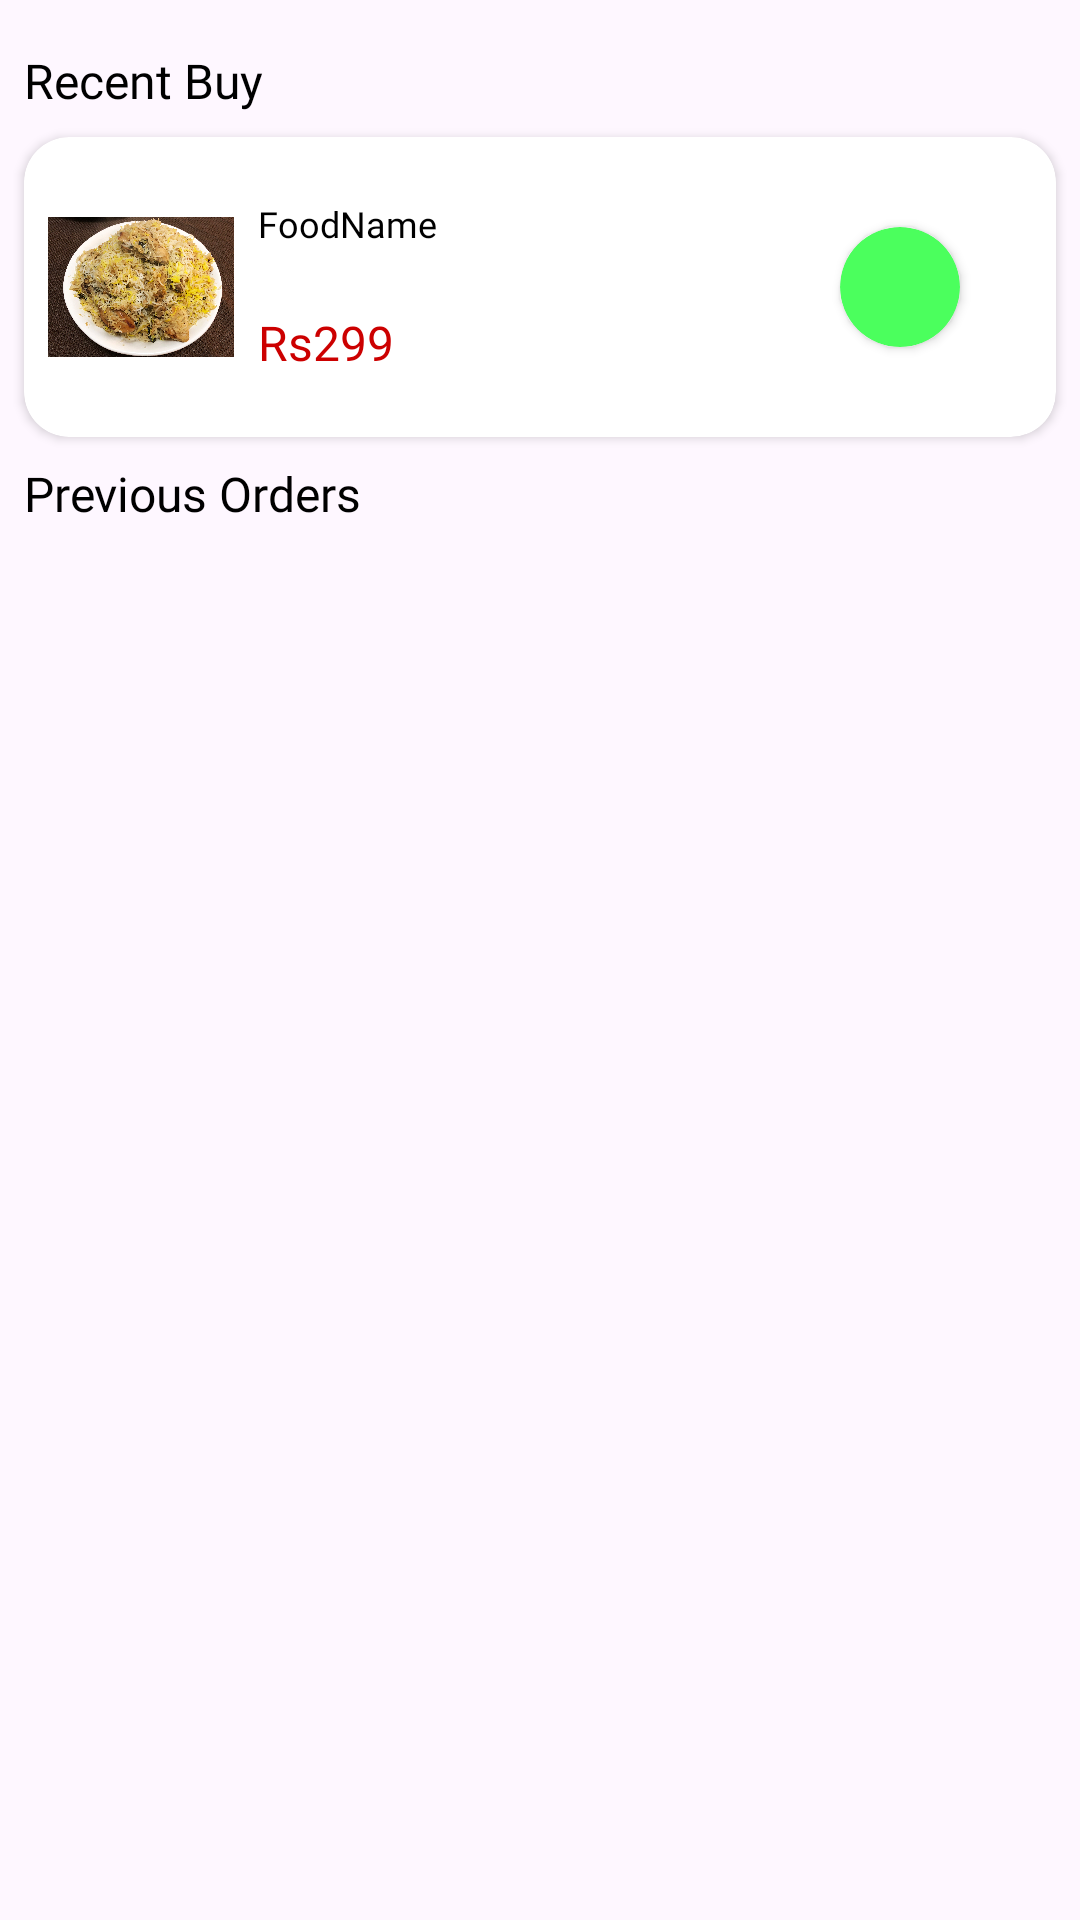

Point at icon controls on the screen. Image size 1080w x 1920h, points as [x,y].
bir: [141,287]
